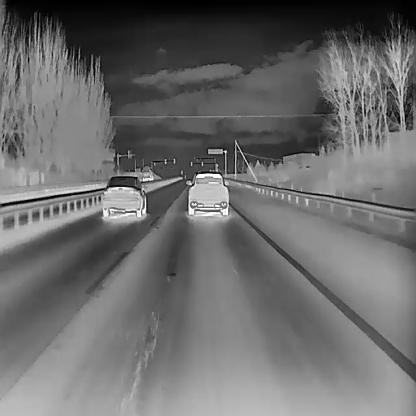car: (100, 174, 147, 217), (185, 171, 229, 215), (141, 165, 154, 182)
